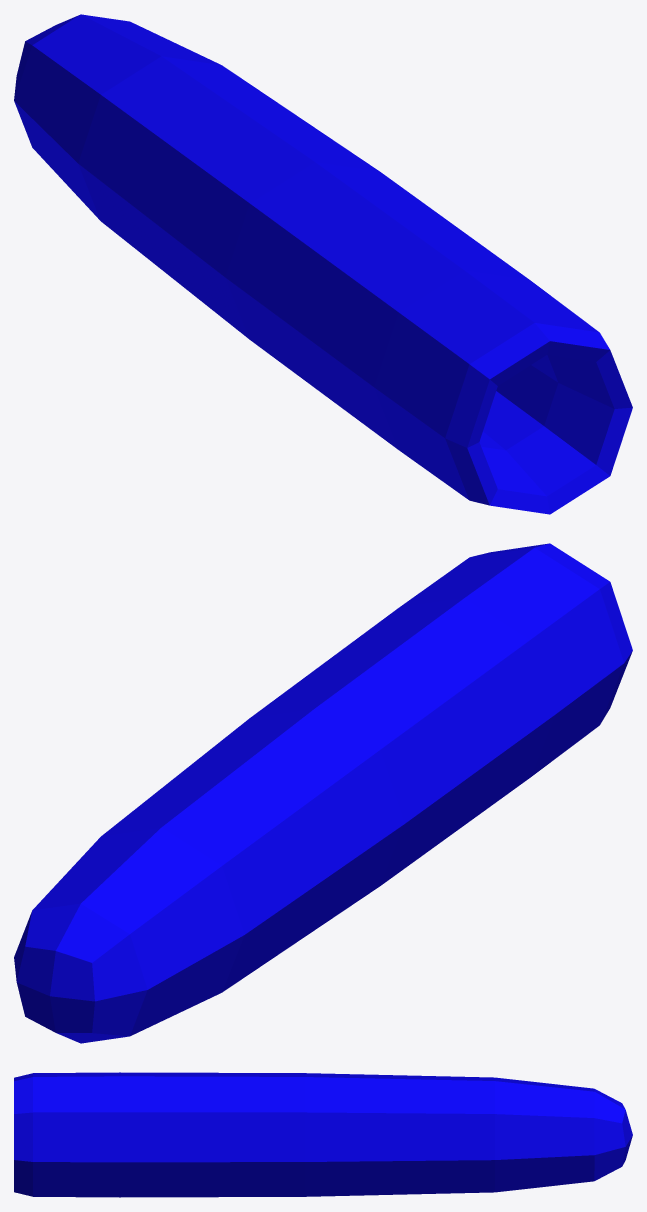
File: Gun.fbx
3 views of the same model, one above another, from view 1: azimuth 30°, elevation 25°; view 2: azimuth 150°, elevation 25°; view 3: azimuth 270°, elevation 25° (orthographic). The views are drawn at different scales.
Visible parts, largest first — view 1: Gun; view 2: Gun; view 3: Gun.
Part boxes in pixels (x1,y1,x2,y2): Gun: (14, 14, 632, 514); Gun: (14, 543, 632, 1043); Gun: (14, 1072, 632, 1197).
Bounding box in the file's own units: 22.92 × 22.92 × 110.
